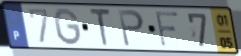7: (26, 7, 51, 45), (185, 12, 209, 49)
F: (153, 10, 181, 49)
G: (52, 6, 84, 47)
P: (116, 8, 146, 49)
T: (88, 7, 113, 49)
